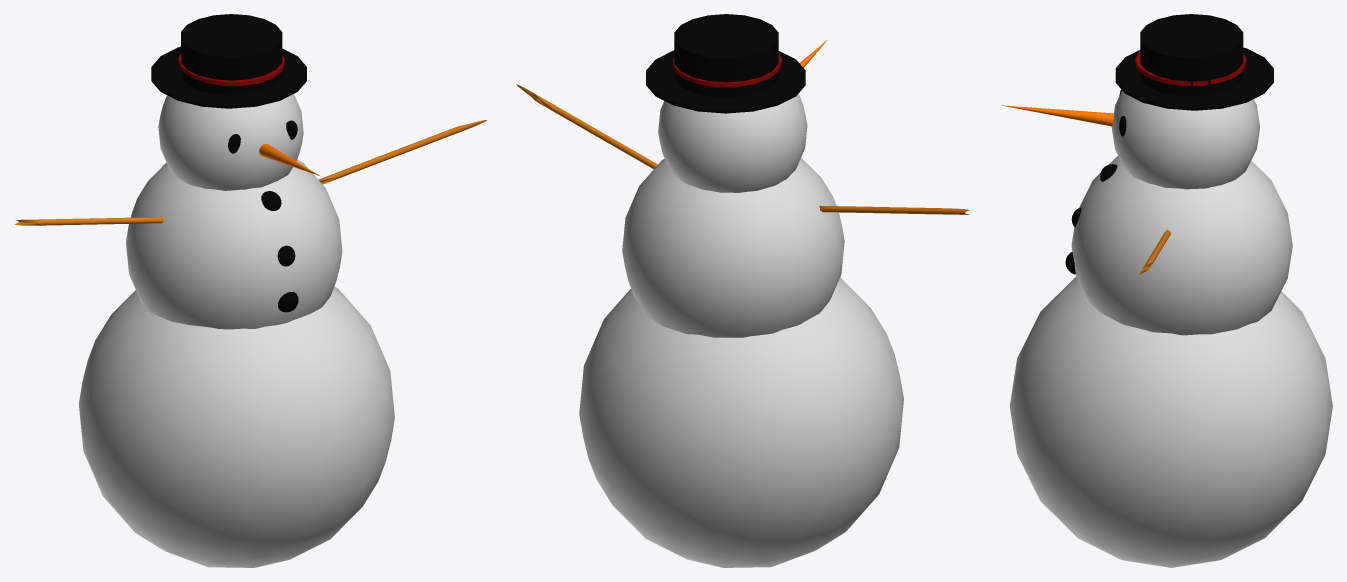
File: snowman.DAE
3 renders of one model, left to right at view 1: azimuth 30°, elevation 25°; view 2: azimuth 150°, elevation 25°; view 3: azimuth 270°, elevation 25°, orthographic. The views are drawn at different scales.
Visible parts, largest first — view 1: GeoSphere001, GeoSphere002, GeoSphere003, Cylinder001, Cylinder002, Tube003, Tube002, Tube001; view 2: GeoSphere001, GeoSphere002, GeoSphere003, Cylinder001, Cylinder002, Tube003, Tube002, Tube001; view 3: GeoSphere001, GeoSphere002, GeoSphere003, Cylinder001, Cylinder002, Cone001, Tube001.
Part boxes in pixels (x1=…): GeoSphere001: x1=78, y1=286, x2=394, y2=567; GeoSphere002: x1=126, y1=159, x2=342, y2=329; GeoSphere003: x1=158, y1=94, x2=303, y2=190; Cylinder001: x1=181, y1=14, x2=282, y2=95; Cylinder002: x1=151, y1=46, x2=306, y2=108; Tube003: x1=318, y1=120, x2=486, y2=184; Tube002: x1=14, y1=217, x2=163, y2=225; Tube001: x1=178, y1=52, x2=284, y2=85; GeoSphere001: x1=579, y1=277, x2=903, y2=567; GeoSphere002: x1=622, y1=158, x2=844, y2=337; GeoSphere003: x1=658, y1=94, x2=807, y2=192; Cylinder001: x1=674, y1=14, x2=778, y2=97; Cylinder002: x1=646, y1=50, x2=805, y2=113; Tube003: x1=516, y1=84, x2=657, y2=169; Tube002: x1=819, y1=205, x2=969, y2=214; Tube001: x1=673, y1=51, x2=781, y2=87; GeoSphere001: x1=1009, y1=276, x2=1332, y2=567; GeoSphere002: x1=1071, y1=156, x2=1292, y2=335; GeoSphere003: x1=1111, y1=91, x2=1260, y2=189; Cylinder001: x1=1140, y1=14, x2=1243, y2=96; Cylinder002: x1=1115, y1=47, x2=1273, y2=110; Cone001: x1=1001, y1=105, x2=1113, y2=126; Tube001: x1=1135, y1=51, x2=1246, y2=85.
Bounding box in the file's own units: 65.62 × 69.92 × 40.75.
